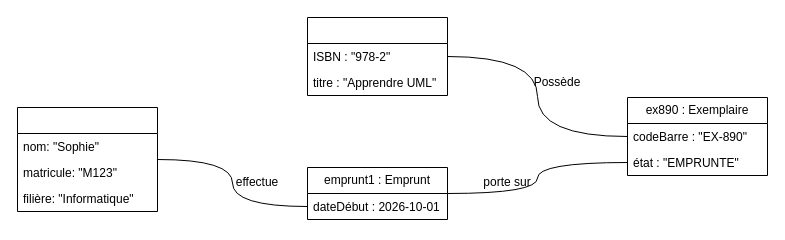
This 785x240 diagram has some shape labels left out. Each missing label, with the box of its shape:
livreUML : Livre: (306, 16, 448, 96)
sophie : Etudiant: (16, 106, 158, 212)
